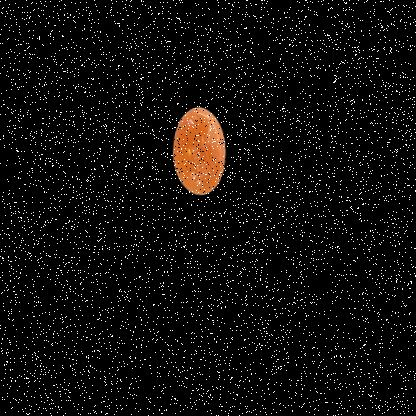welood: (153, 93, 260, 234)
